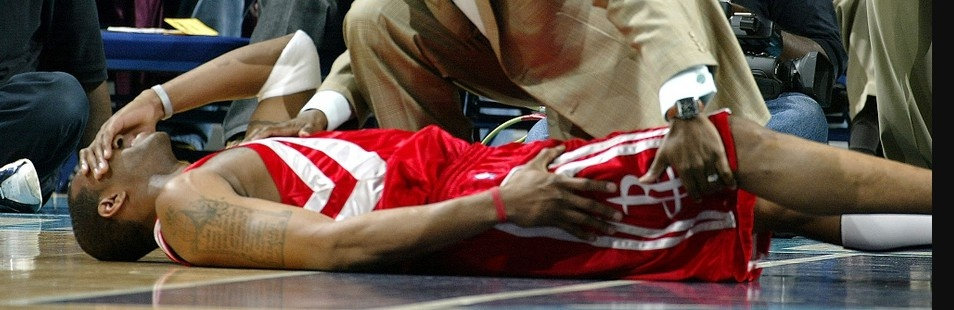falling: (12, 7, 945, 274)
